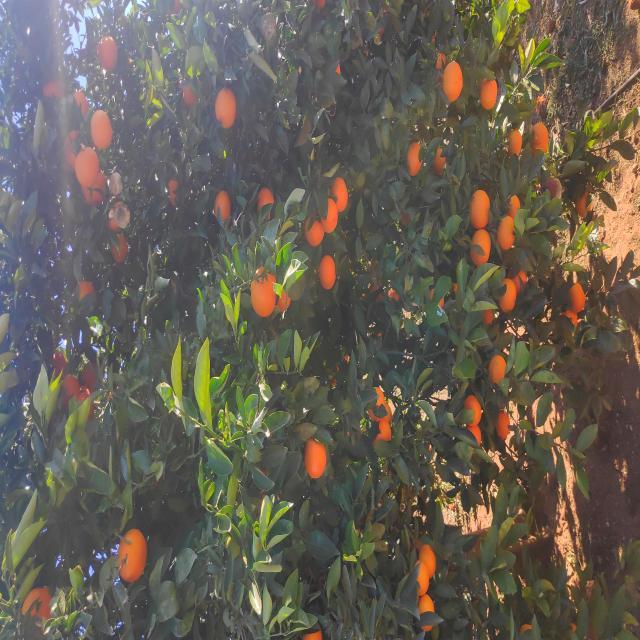Jeruk Sudah Matang: (58, 116, 112, 148), (325, 251, 371, 275), (502, 68, 549, 90), (18, 22, 52, 52), (162, 304, 203, 328), (490, 90, 531, 112), (455, 76, 494, 99), (540, 442, 578, 464), (244, 82, 280, 105), (434, 81, 466, 106), (512, 216, 550, 237), (568, 98, 606, 118), (528, 480, 567, 498), (414, 472, 452, 490), (483, 531, 520, 549), (374, 472, 410, 490), (393, 304, 426, 323), (388, 496, 421, 514), (472, 65, 509, 81), (12, 417, 46, 434), (236, 59, 266, 78), (406, 321, 444, 336), (350, 319, 385, 335), (344, 506, 372, 526), (257, 488, 288, 506), (463, 406, 497, 422), (323, 273, 353, 291), (220, 368, 253, 384), (64, 419, 95, 436), (427, 333, 462, 348), (186, 465, 217, 481), (214, 466, 246, 481), (415, 215, 449, 229), (377, 111, 404, 128), (420, 258, 450, 273), (330, 500, 360, 515), (193, 373, 218, 391), (336, 79, 363, 95), (221, 78, 247, 94), (419, 505, 445, 520), (532, 184, 558, 199), (214, 376, 238, 392), (424, 576, 448, 592), (199, 496, 227, 509), (48, 416, 76, 429), (262, 52, 288, 66), (466, 432, 492, 445), (486, 508, 510, 521), (331, 572, 357, 584), (434, 168, 460, 180), (543, 44, 560, 62), (310, 562, 330, 577), (332, 430, 352, 444), (314, 482, 332, 494)
